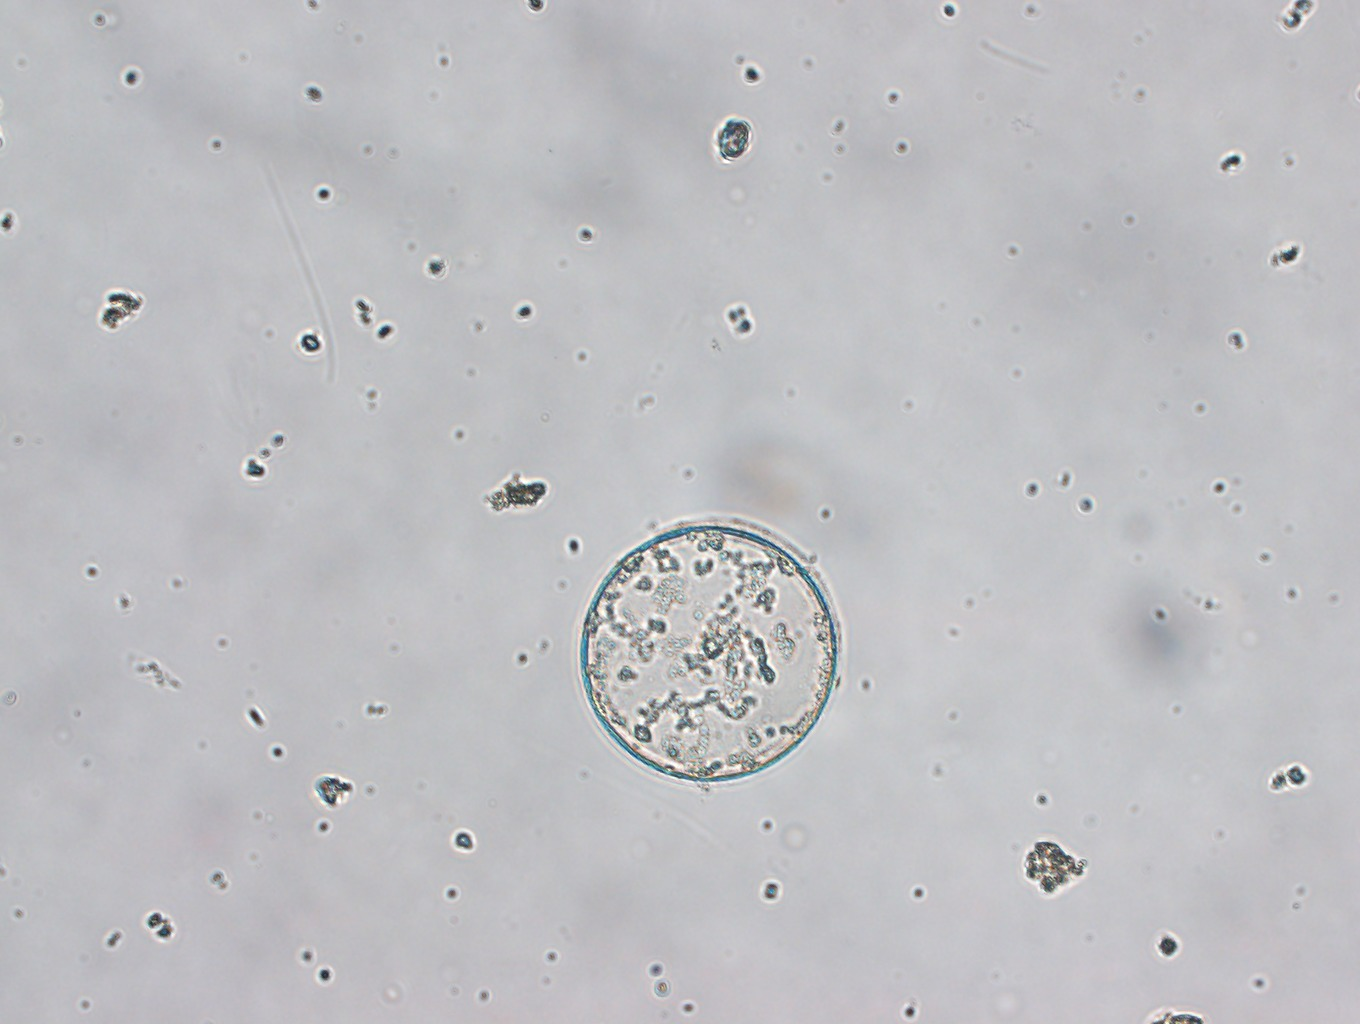coscinodiscus: (566, 517, 840, 795)
